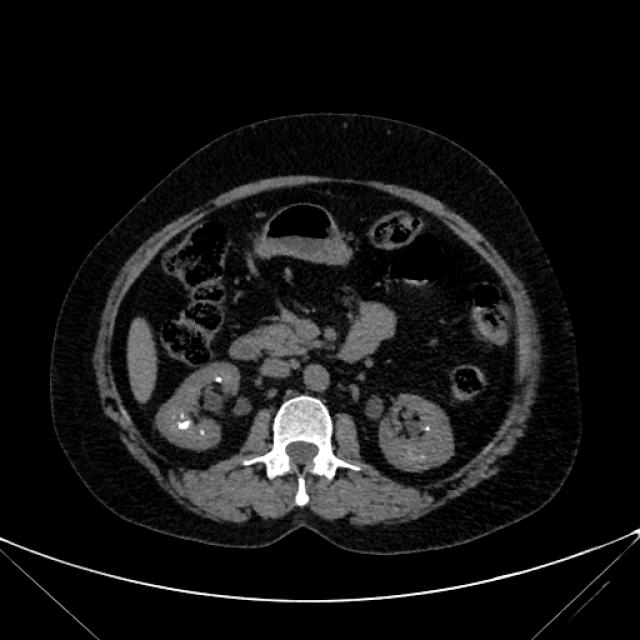kidney: (368, 376, 462, 484), (153, 358, 248, 454)
stone: (171, 416, 194, 431), (422, 418, 434, 438), (216, 374, 225, 386), (198, 427, 208, 436)
